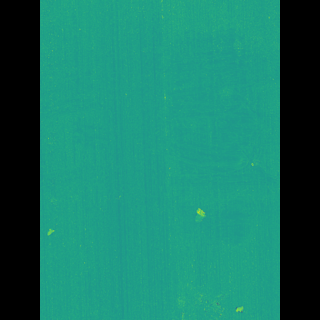Loch: (161, 12, 252, 254)
